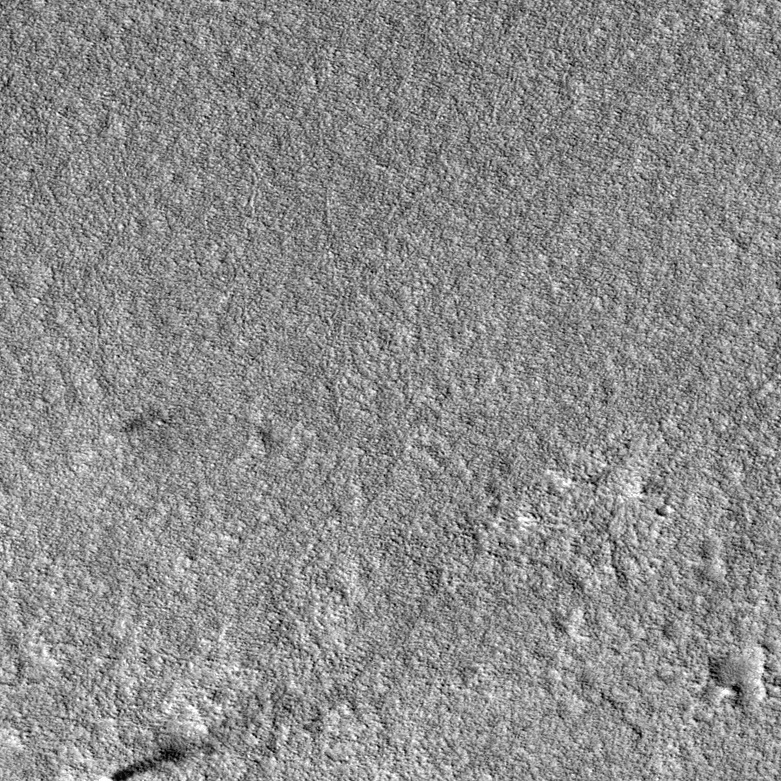dust_devil: (98, 732, 220, 781), (101, 403, 166, 445)
